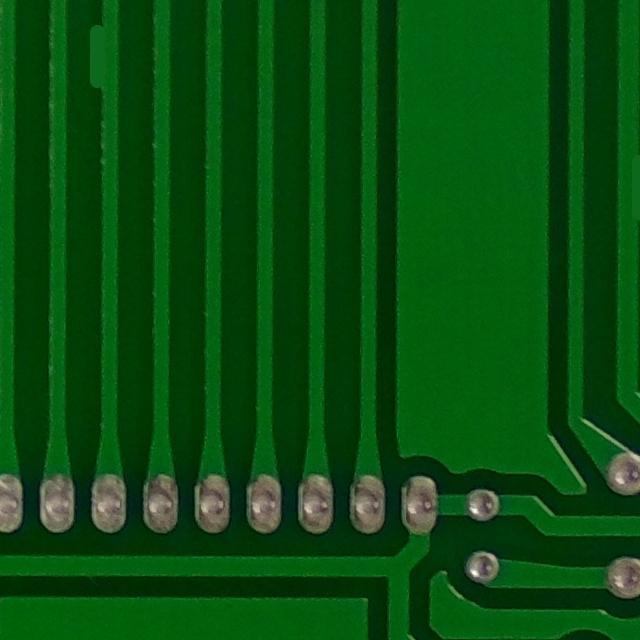spur: (69, 14, 129, 99), (607, 136, 640, 236)
